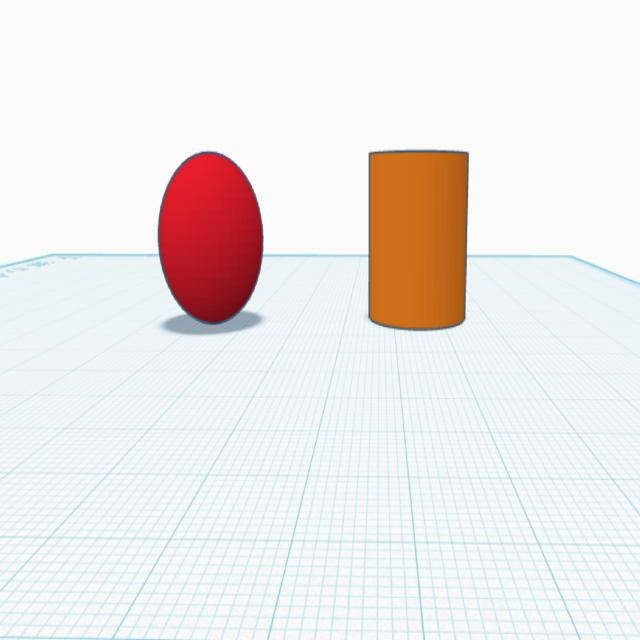sphere: (154, 146, 267, 328)
